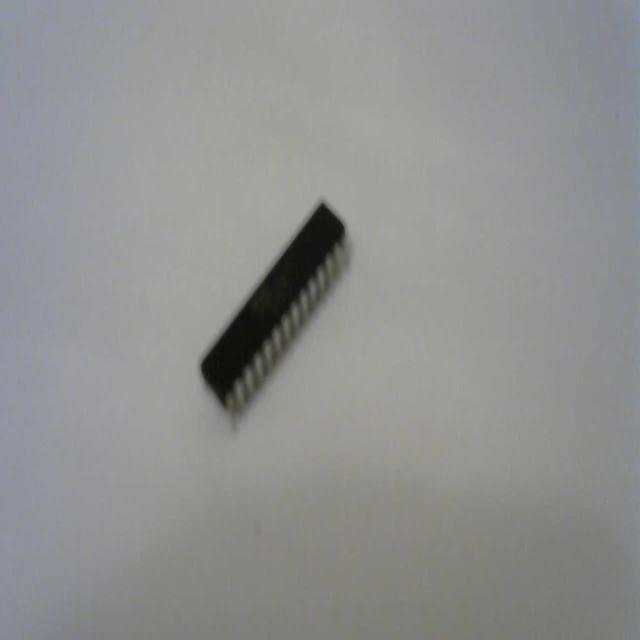atmega: (198, 194, 352, 420)
